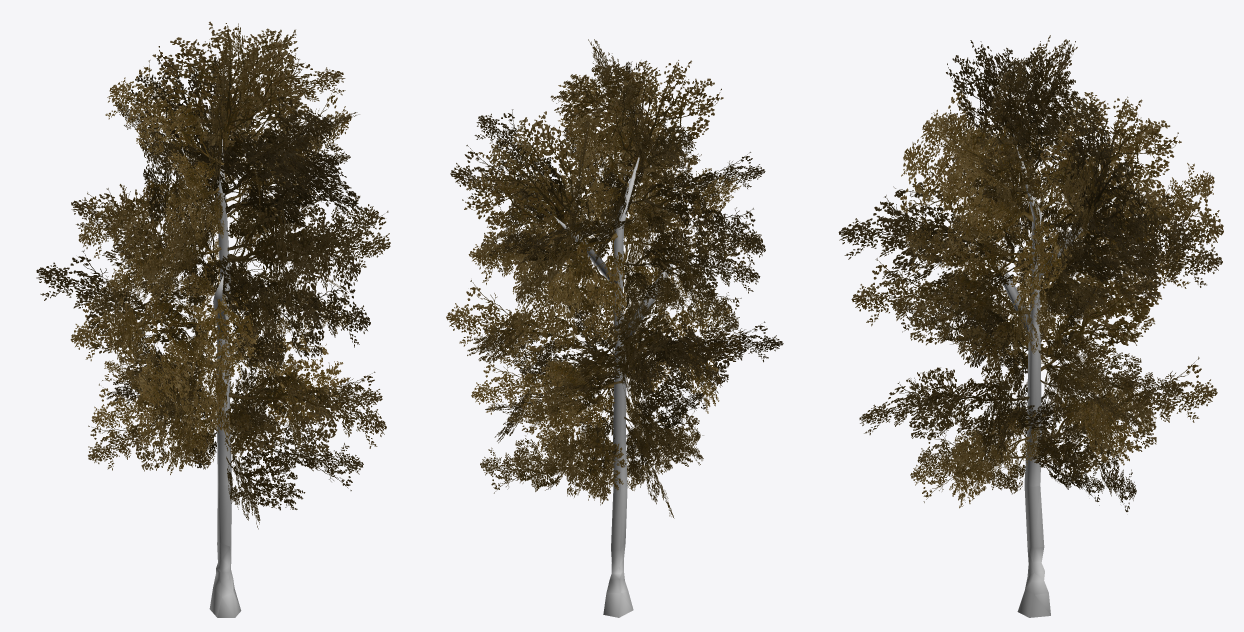
3 views of the same model, side by side, from view 1: azimuth 30°, elevation 25°; view 2: azimuth 150°, elevation 25°; view 3: azimuth 270°, elevation 25° (orthographic). The views are drawn at different scales.
Parts seen in each view (by area): view 1: Tree_Branches_02, Tree_Trunk_02; view 2: Tree_Branches_02, Tree_Trunk_02; view 3: Tree_Branches_02, Tree_Trunk_02.
Part boxes in pixels (x1,y1,x2,y2): Tree_Branches_02: [36, 21, 390, 529]; Tree_Trunk_02: [209, 139, 241, 617]; Tree_Branches_02: [446, 39, 783, 518]; Tree_Trunk_02: [554, 157, 682, 617]; Tree_Branches_02: [838, 35, 1223, 511]; Tree_Trunk_02: [976, 130, 1116, 617].
Bounding box in the file's own units: 662 × 1187 × 766.
2 materials, 1 textured.
